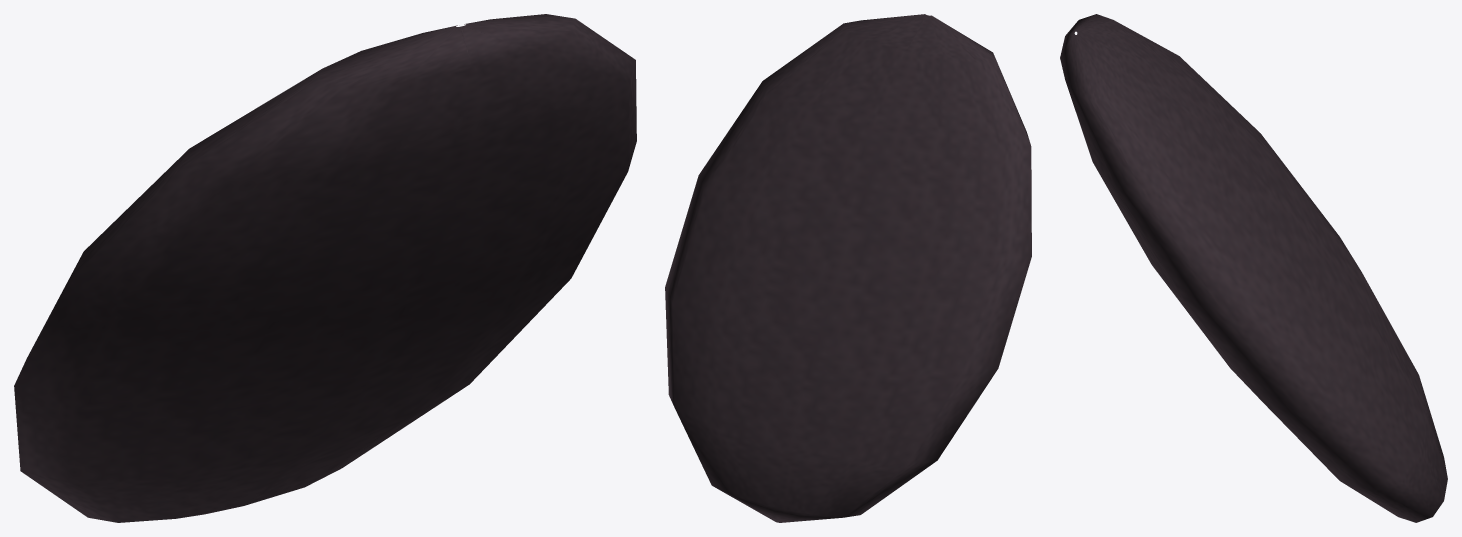
Rendered from facial_sheet_soul_patch_default.gltf.
3 renders of one model, left to right at view 1: azimuth 30°, elevation 25°; view 2: azimuth 150°, elevation 25°; view 3: azimuth 270°, elevation 25°, orthographic. The views are drawn at different scales.
Parts seen in each view (by area): view 1: Soul Patch; view 2: Soul Patch; view 3: Soul Patch.
Part boxes in pixels (bbox=[...]): Soul Patch: bbox=[14, 14, 636, 522]; Soul Patch: bbox=[665, 14, 1031, 522]; Soul Patch: bbox=[1060, 14, 1447, 522].
Bounding box in the file's own units: 0.0351 × 0.04 × 0.0299.
Materials: 1 (1 with a texture image).
